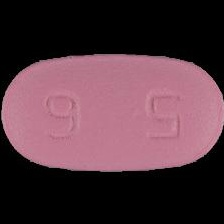65862-155: (0, 0, 224, 224)
